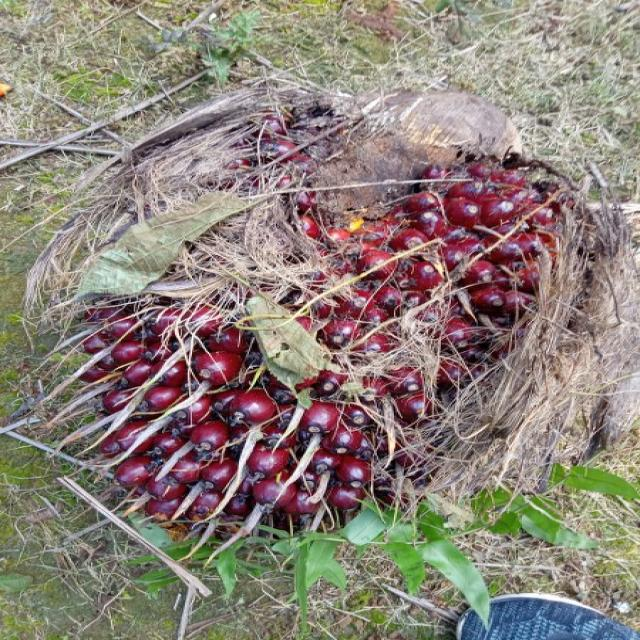fraksi 1: (14, 47, 640, 567)
